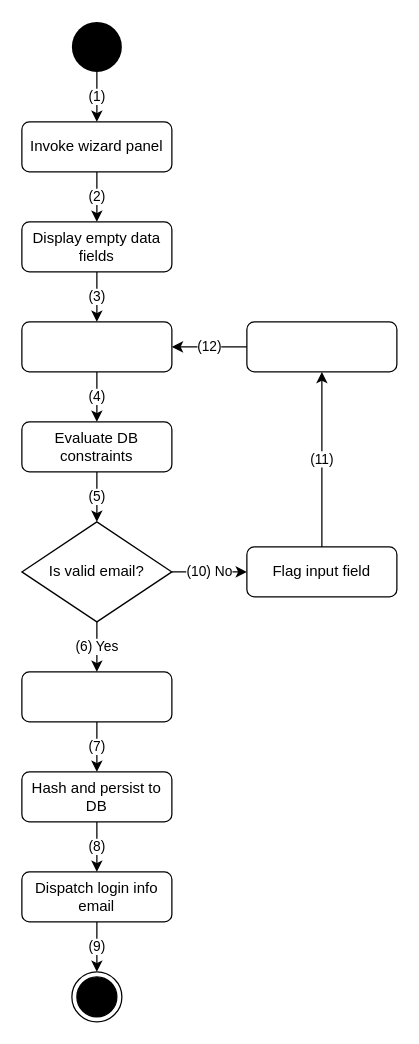
The diagram is 419 pixels wide and 1044 high, and some of its shapes have lost their labels. The centre of each missing label's shape, as x and y in pixels:
Auto-generate password: point 96,696
Complete form & Save: point 96,346
Prompt to correct: point 321,346
